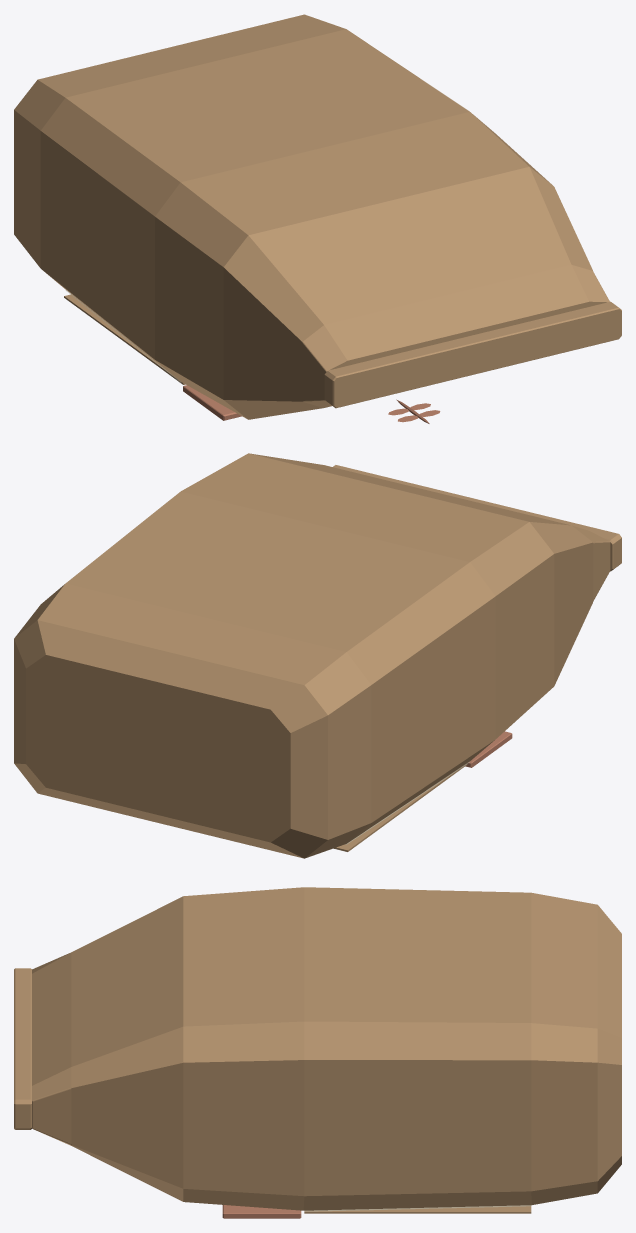
Rendered from bulgur.glb.
3 views of the same model, one above another, from view 1: azimuth 30°, elevation 25°; view 2: azimuth 150°, elevation 25°; view 3: azimuth 270°, elevation 25° (orthographic). The views are drawn at different scales.
Parts seen in each view (by area): view 1: bulgur; view 2: bulgur; view 3: bulgur.
Boxes of the visible parts, x1,y1,x2,y2 form: bulgur: [14, 14, 621, 423]; bulgur: [14, 453, 621, 858]; bulgur: [14, 887, 621, 1218].
Bounding box in the file's own units: 0.1236 × 0.0721 × 0.201.
